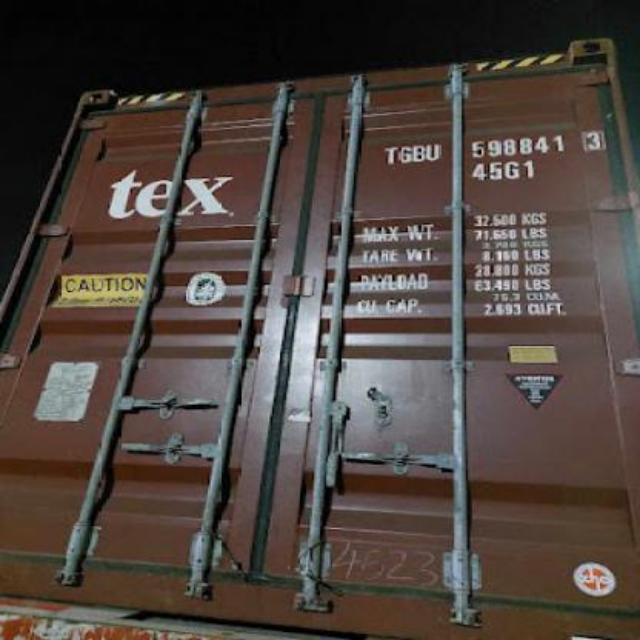1: (550, 129, 570, 159)
3: (578, 124, 604, 154)
4: (532, 129, 548, 159)
5: (466, 135, 486, 161)
8: (500, 134, 516, 160), (514, 134, 532, 156)
9: (484, 132, 500, 158)
B: (412, 142, 424, 168)
G: (398, 142, 414, 166)
T: (380, 138, 398, 168)
U: (424, 140, 440, 164)
